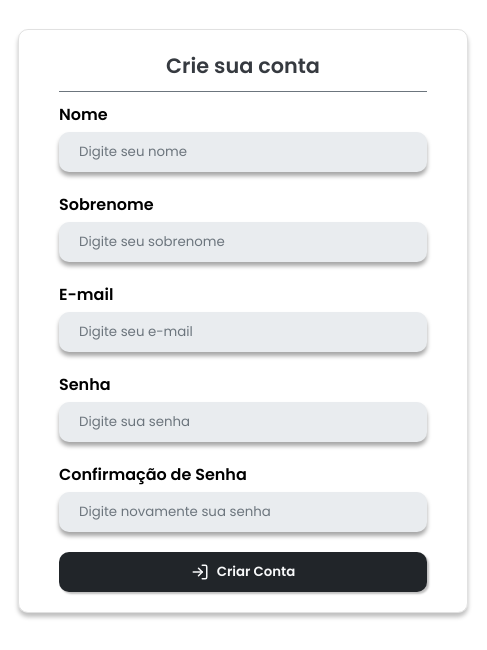
Test: Sign Up › Should show error if email already exists
The width and height of the screenshot is (487, 650).
In the field with placeholder "Digite seu nome": (243, 152) 59,132 -> 427,172, type "Lorem"
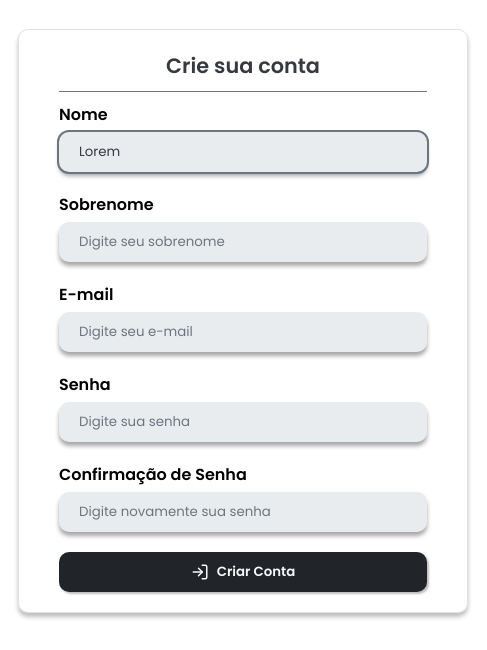
In the field with placeholder "Digite seu sobrenome": (243, 242) 59,222 -> 427,262, type "Ipsun"
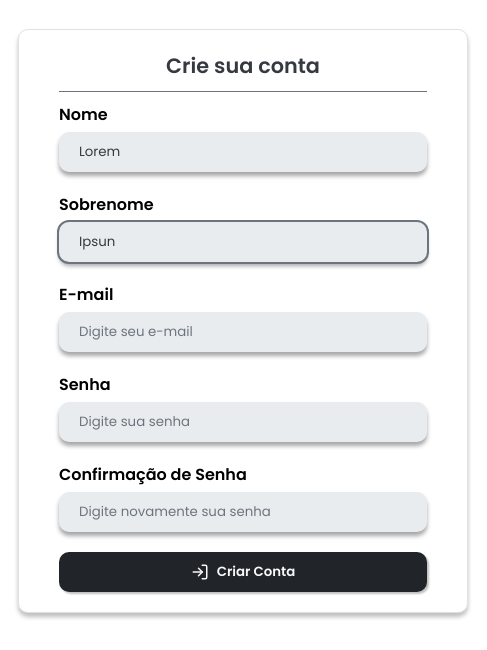
In the field with placeholder "Digite seu e-mail": (243, 332) 59,312 -> 427,352, type "loren@ipsun.com"
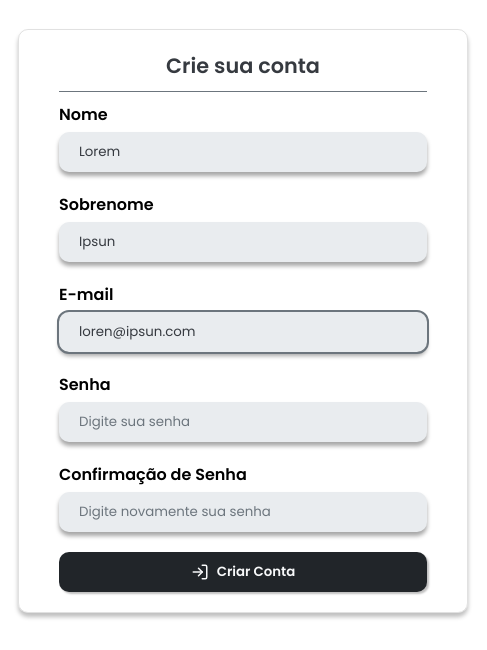
In the password field with placeholder "Digite sua senha": (243, 422) 59,402 -> 427,442, type "123456"
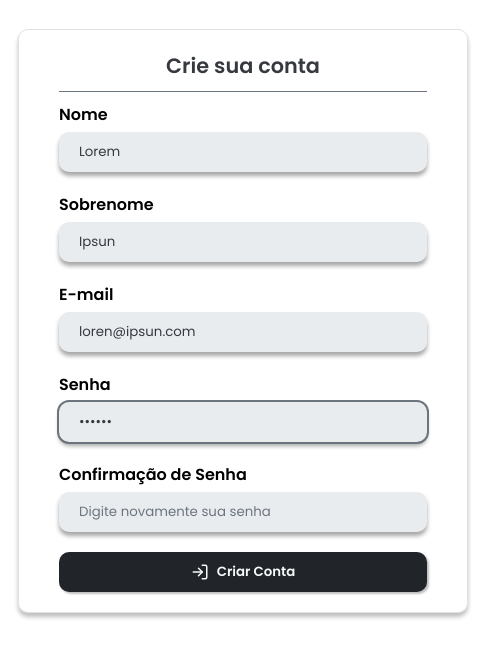
In the password field with placeholder "Digite novamente sua senha": (243, 512) 59,492 -> 427,532, type "123456"
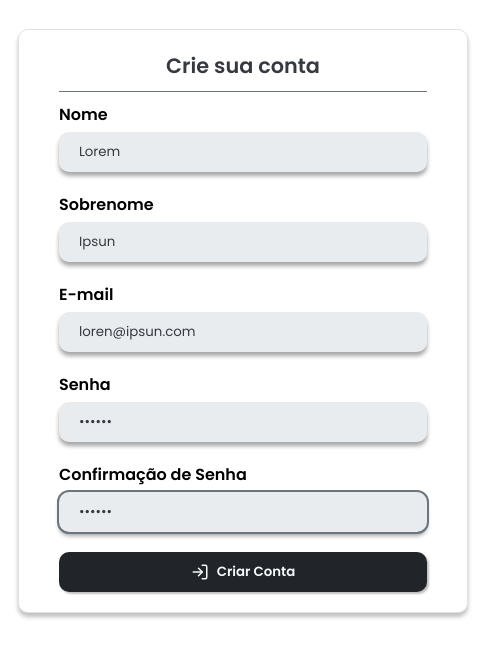
Click the button "Criar Conta": (243, 572) 59,552 -> 427,592
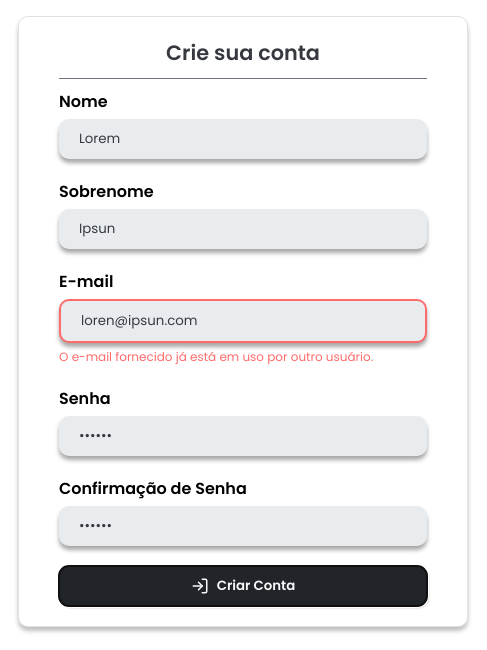
Expected: the text "O e-mail fornecido já está em uso por outro usuário." is shown, 59,348 -> 427,366
